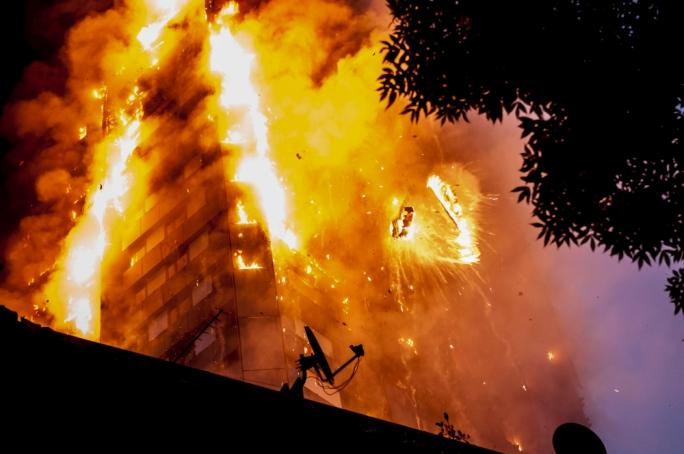Fire: (52, 18, 292, 362), (381, 162, 510, 277)
